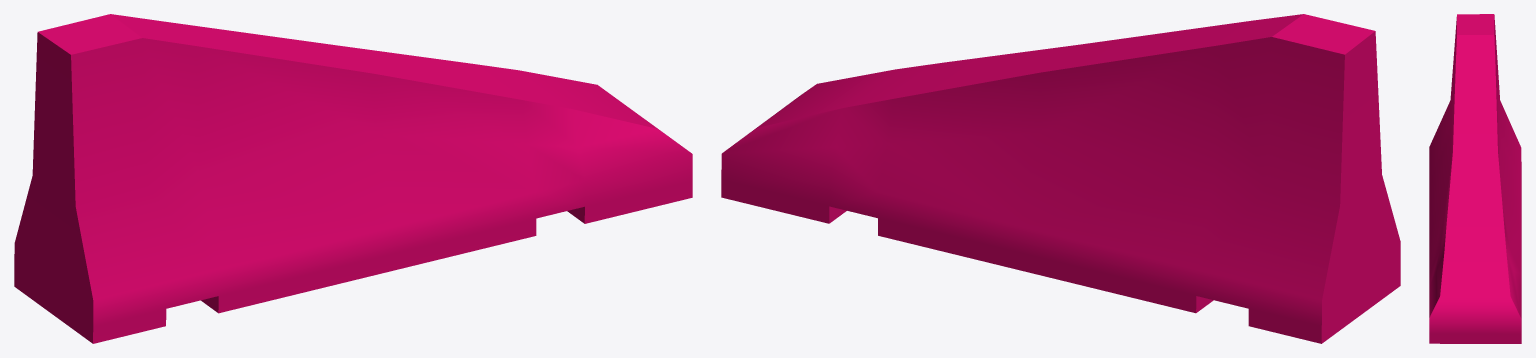
Rendered from Concrete_Blocker_02_End_Lod0.fbx.
3 renders of one model, left to right at view 1: azimuth 30°, elevation 25°; view 2: azimuth 150°, elevation 25°; view 3: azimuth 270°, elevation 25°, orthographic. The views are drawn at different scales.
Visible parts, largest first — view 1: Concrete_Blocker_02_End_Lod0; view 2: Concrete_Blocker_02_End_Lod0; view 3: Concrete_Blocker_02_End_Lod0.
Part boxes in pixels (x1=…): Concrete_Blocker_02_End_Lod0: x1=14, y1=14, x2=692, y2=343; Concrete_Blocker_02_End_Lod0: x1=721, y1=14, x2=1400, y2=343; Concrete_Blocker_02_End_Lod0: x1=1429, y1=14, x2=1521, y2=343.
Size of the model in its own units: 128 by 55.65 by 29.33.
